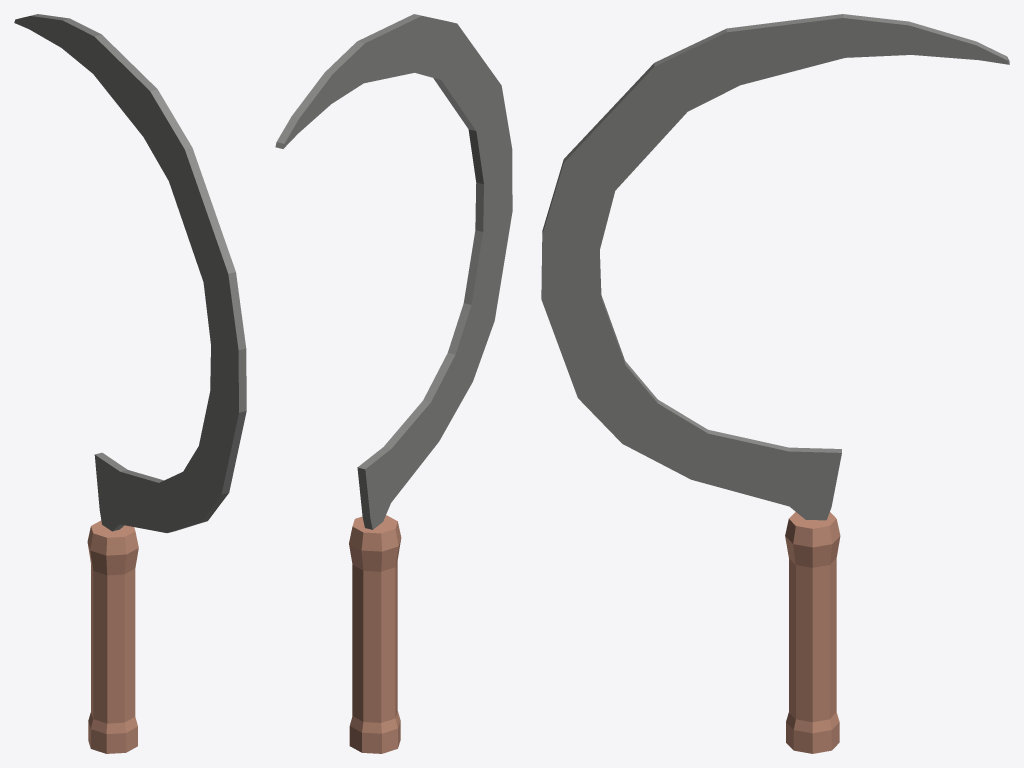
Rendered from wpn-sickle.glb.
The picture shows the model from 3 angles, left to right: view 1: azimuth 30°, elevation 25°; view 2: azimuth 150°, elevation 25°; view 3: azimuth 270°, elevation 25°; orthographic projection. The views are drawn at different scales.
Parts seen in each view (by area): view 1: Sickle; view 2: Sickle; view 3: Sickle.
Part boxes in pixels (x1,y1,x2,y2): Sickle: (14,14,246,753); Sickle: (275,14,512,753); Sickle: (541,14,1009,753).
Size of the model in its own units: 5.27 by 76.18 by 44.5.
